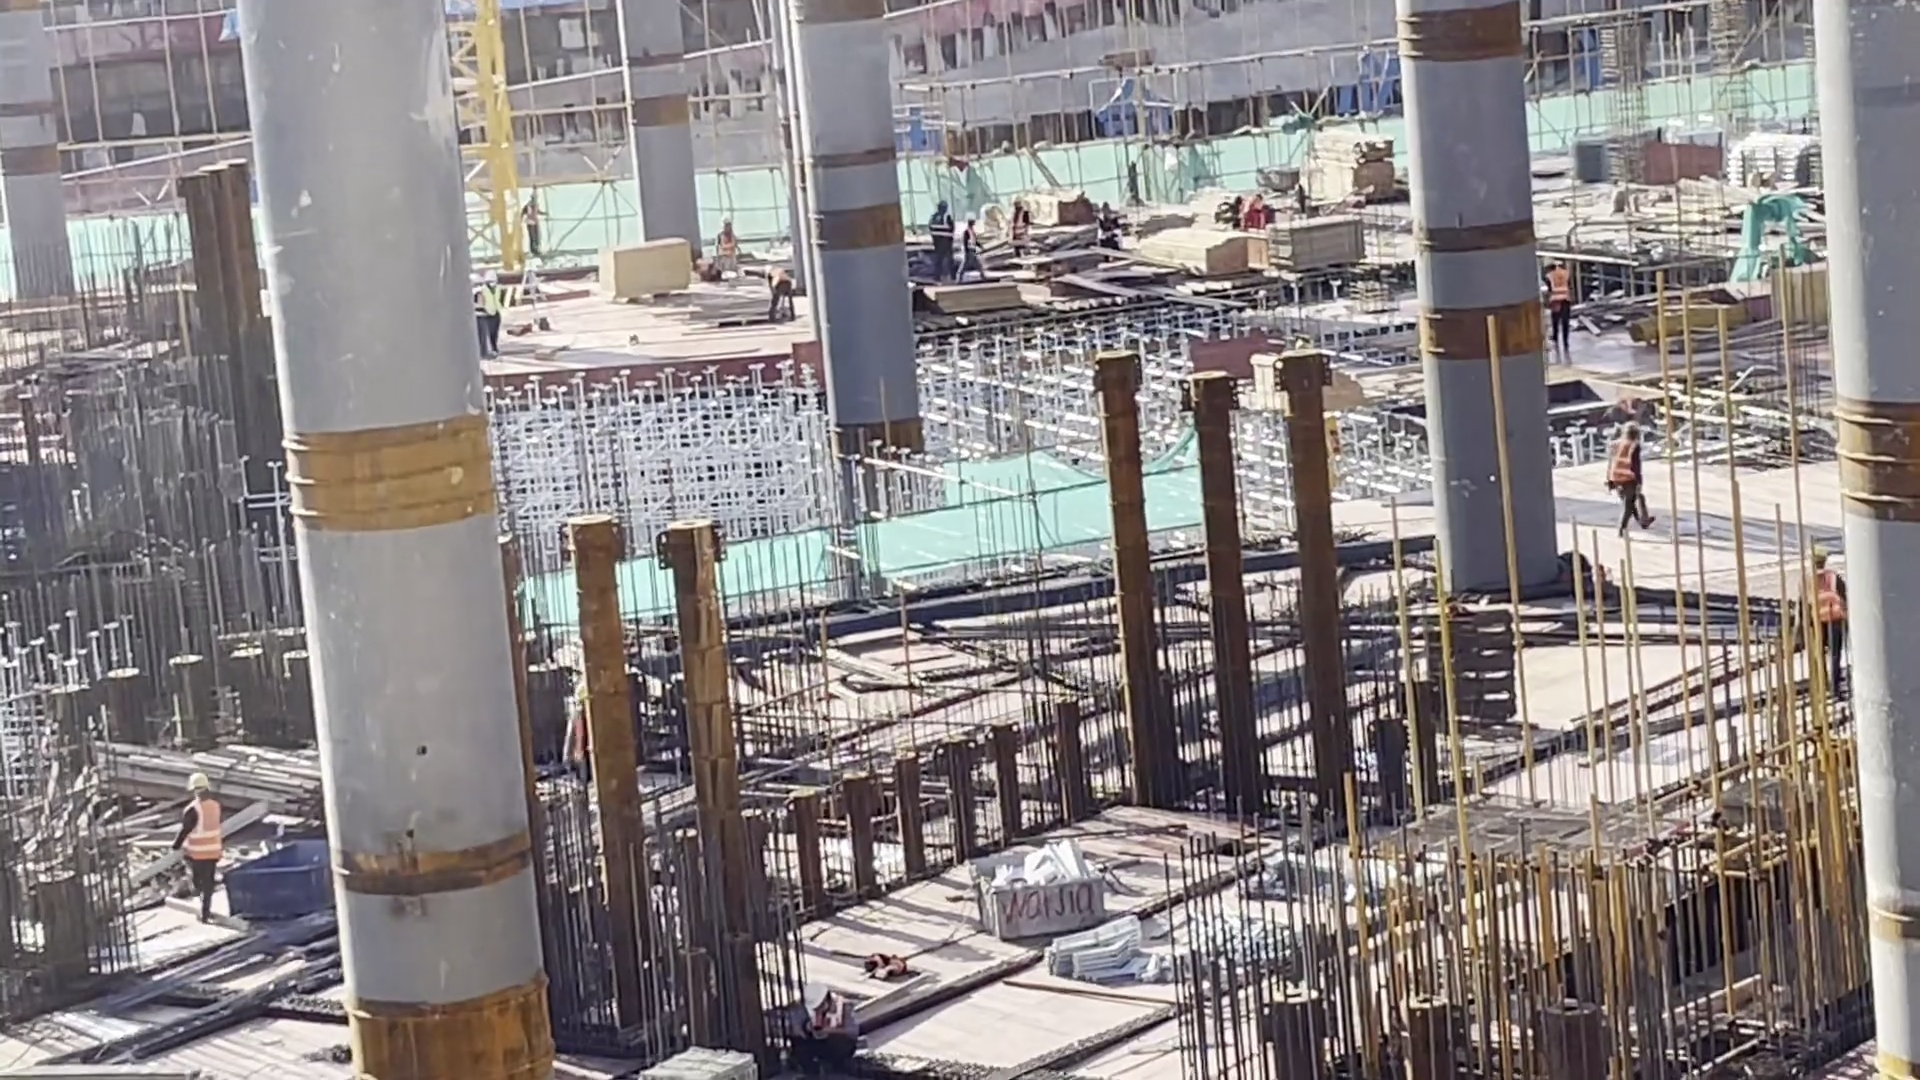helmet: (801, 981, 831, 1007), (187, 763, 213, 792), (927, 189, 950, 220), (1619, 413, 1648, 435), (713, 212, 735, 238), (486, 268, 502, 286), (1811, 545, 1823, 559)
hopper: (973, 848, 1138, 937), (210, 837, 338, 952)
person: (158, 765, 241, 931), (776, 971, 864, 1063), (1591, 405, 1655, 530), (1536, 234, 1591, 369), (1797, 538, 1847, 643), (466, 264, 515, 342), (928, 193, 966, 293), (1220, 190, 1283, 249), (701, 208, 747, 283), (512, 181, 552, 260), (1006, 194, 1043, 268), (764, 260, 800, 326)
vest: (182, 805, 230, 870), (1808, 571, 1842, 624), (1612, 434, 1639, 482), (1538, 271, 1571, 302), (479, 286, 500, 315)
